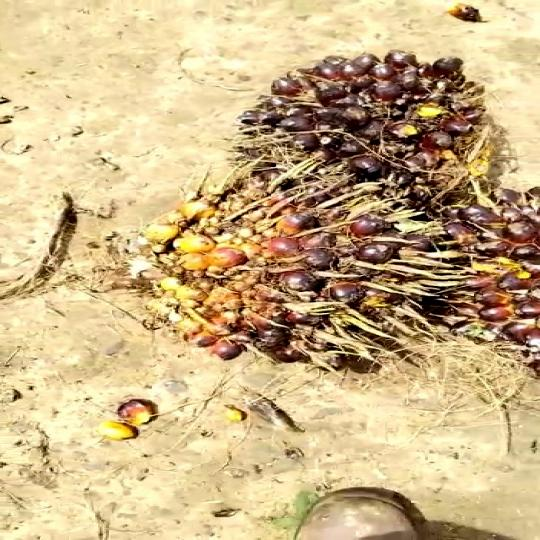kurang masak: (109, 155, 480, 387), (231, 53, 494, 198)
